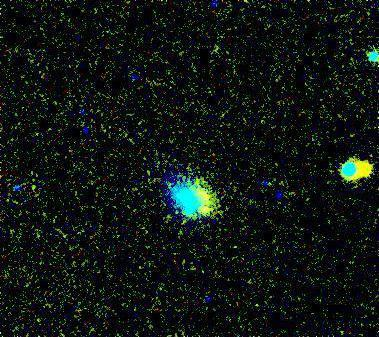star: (192, 195, 222, 225)
